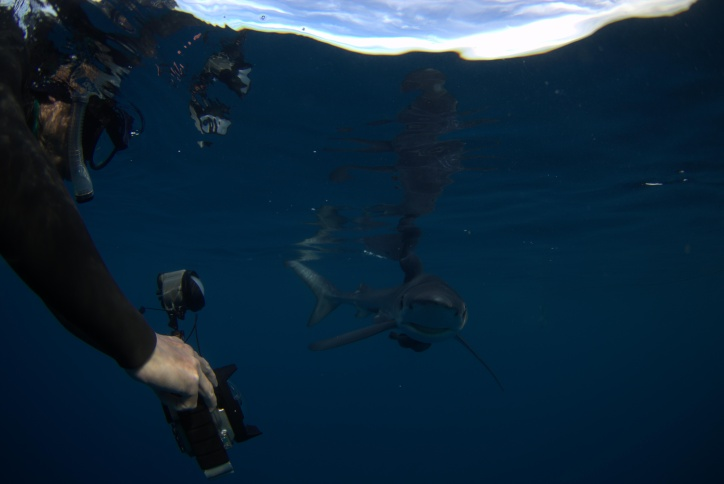Azul: (244, 231, 512, 380)
